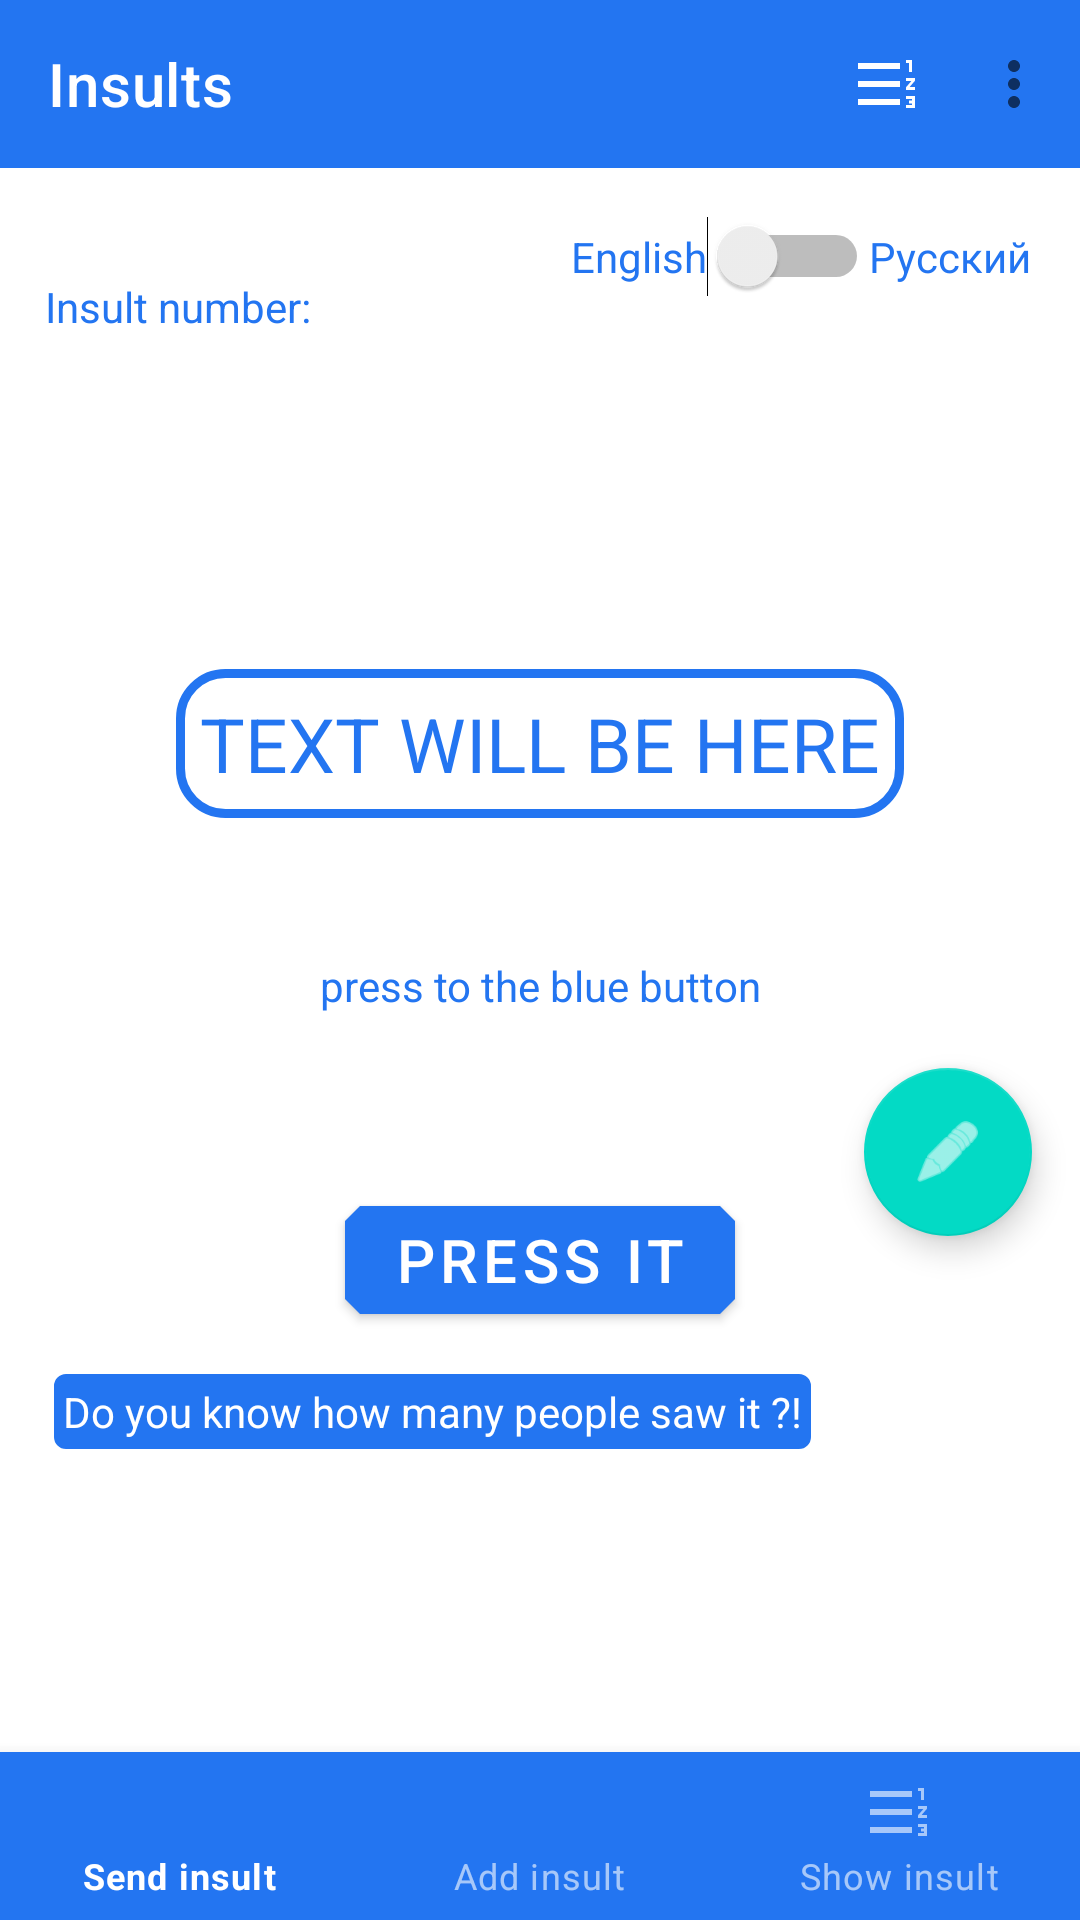

Icons on this 1080*1920 Android screen, each with its box as [x1, y1, x2, y2]:
edit: [864, 1068, 1032, 1236]
